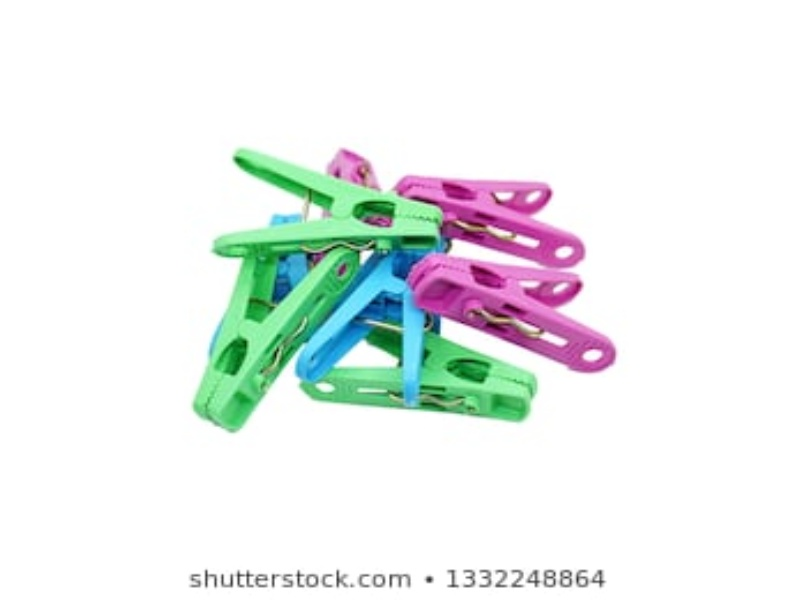plastic-peg: (184, 246, 362, 430), (408, 253, 654, 373), (211, 138, 443, 250), (321, 319, 541, 433), (302, 246, 443, 406), (391, 170, 602, 268)
